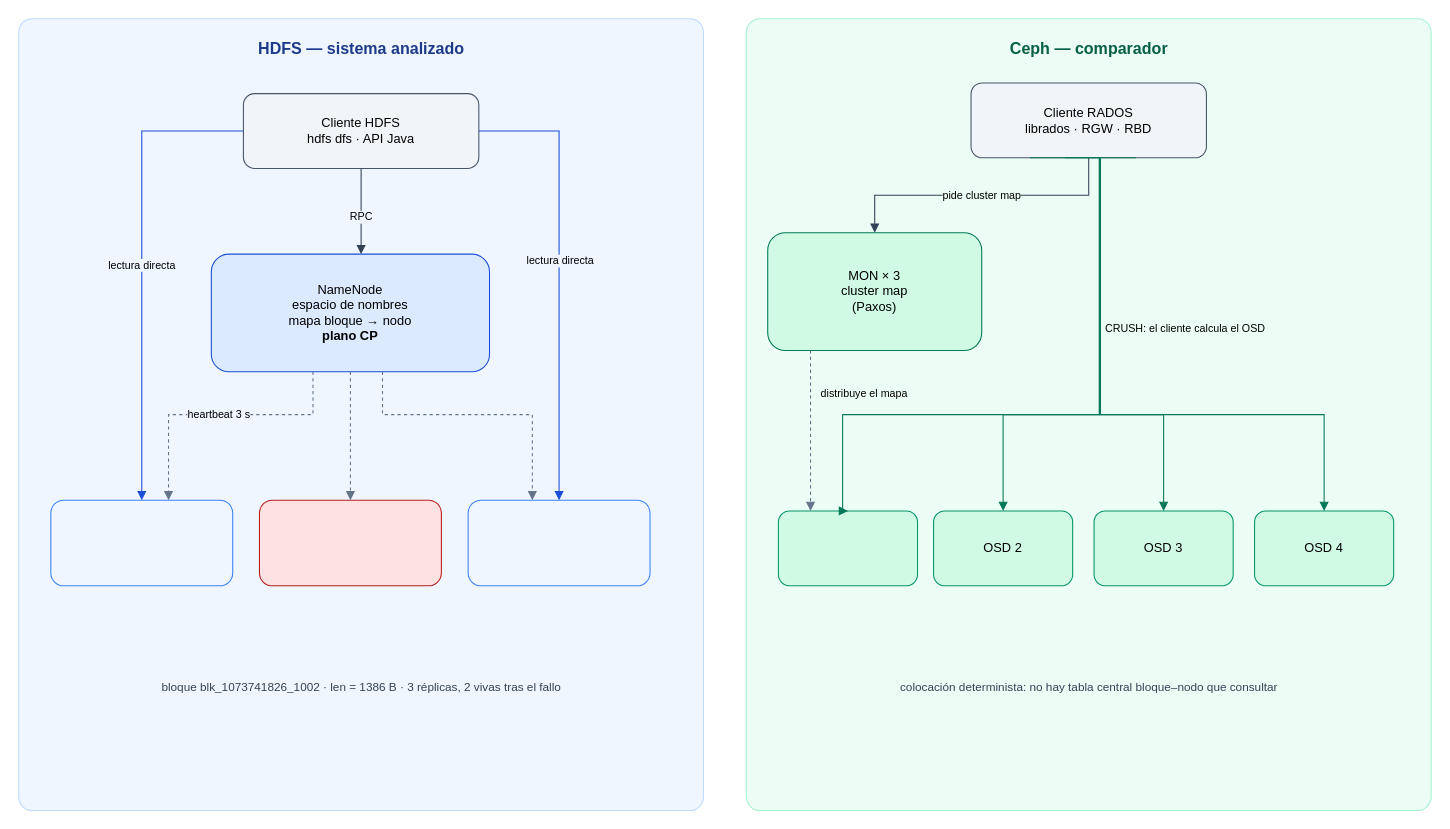
Image size: 1450x829. Some labels were removed from this diagram. Each missing label, with the centre of its shape:
DataNode 1: [141,542]
DataNode 2 (caído): [349,542]
DataNode 3: [558,542]
OSD 1: [847,548]
